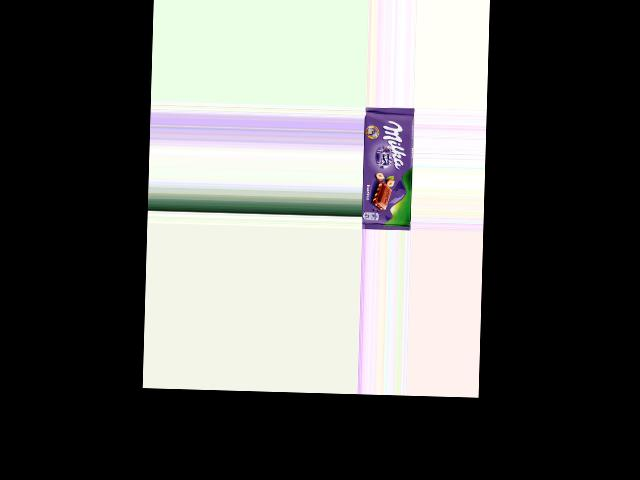chocolate: (360, 107, 414, 231)
